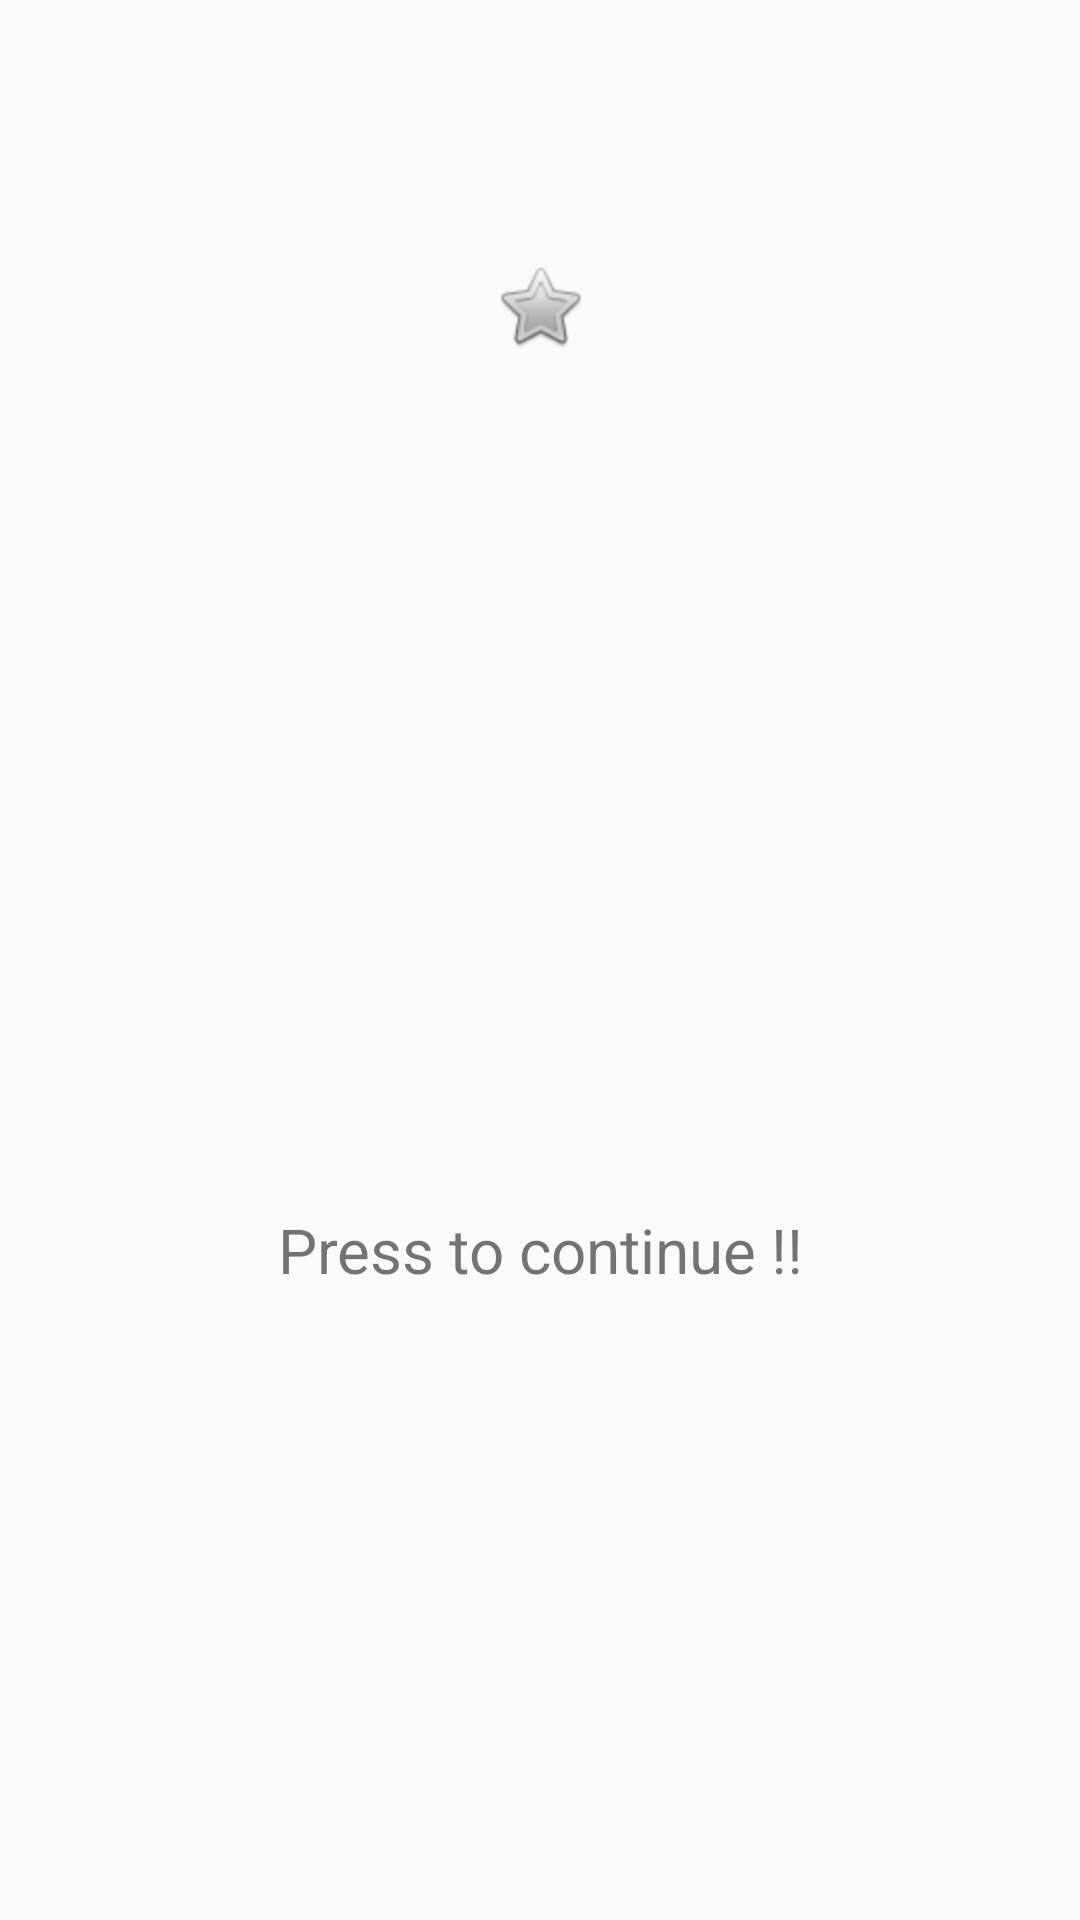

Icons on this 1080 x 1920 Android screen, each with the point to tap as (x,y):
star: (541,307)
